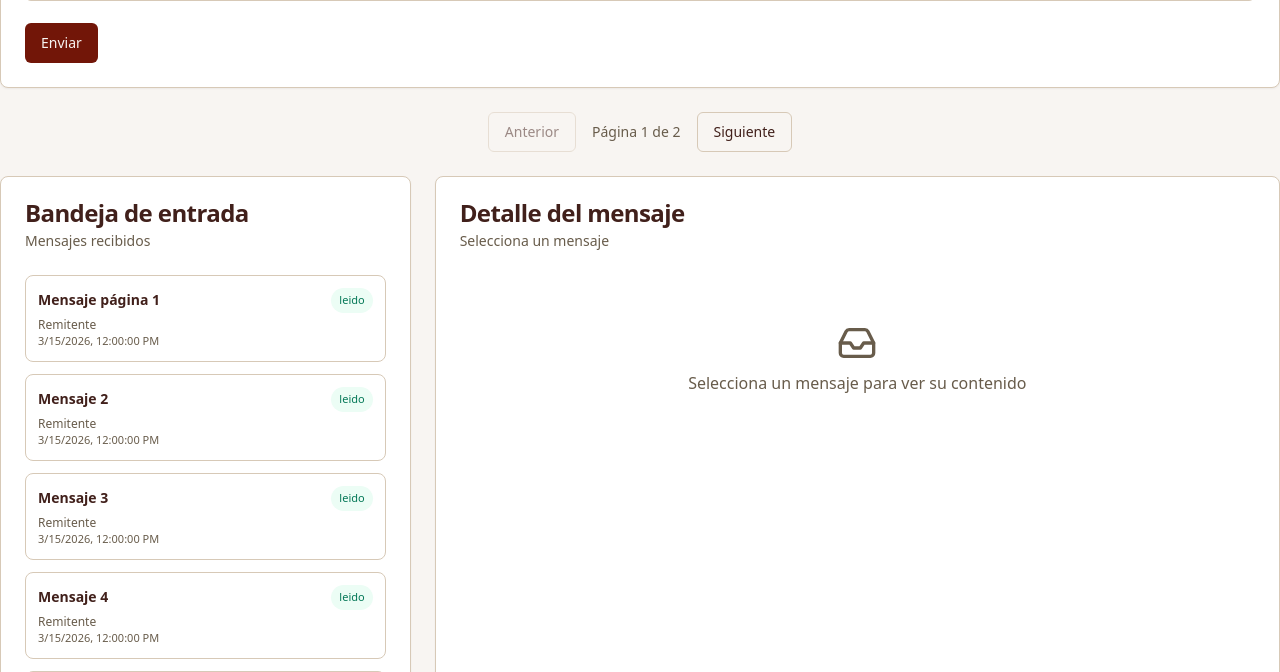
MensajesPage list controls › preserves selecting a message into its detail view
(page scrolled)
Expected: the text "Mensaje página 1" is shown, [38,290,160,310]
Click the button "Mensaje página 1 leido Remitente 3/15/2026, 12:00:00 PM" at {"x": 99, "y": 300}, box [25,275,386,362]
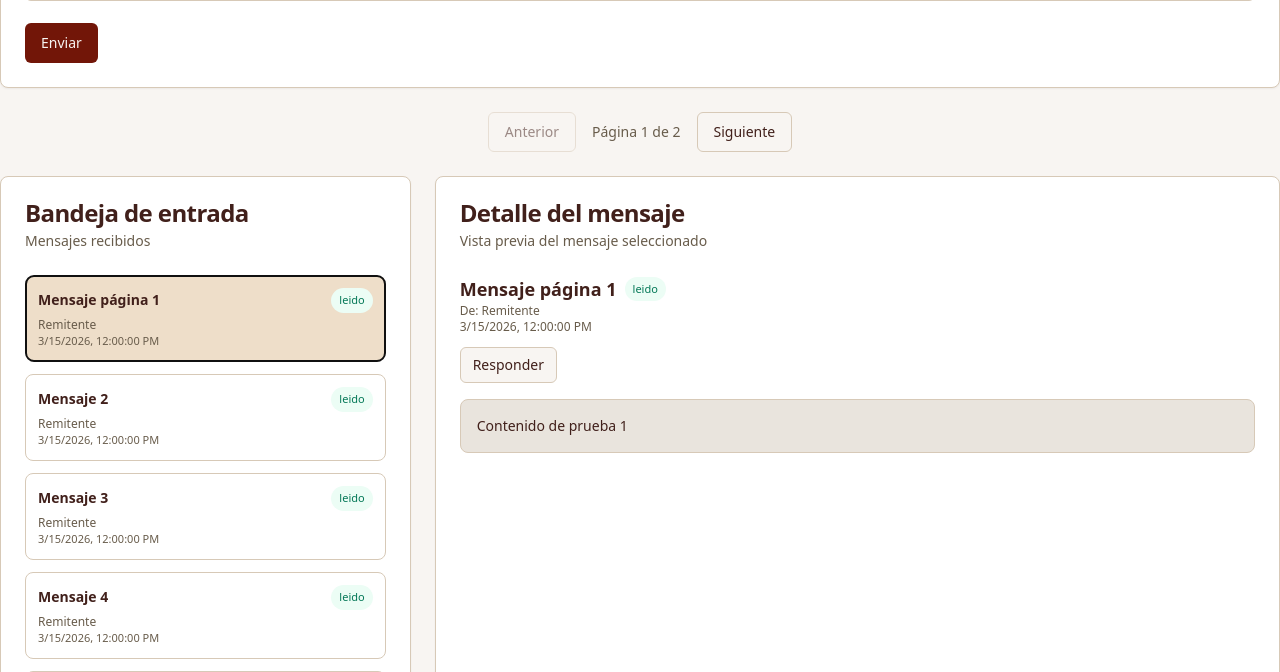
Expected: the text "Vista previa del mensaje seleccionado" is shown, [460,231,707,250]
Expected: the text "Contenido de prueba 1" is shown, [460,399,1255,453]
